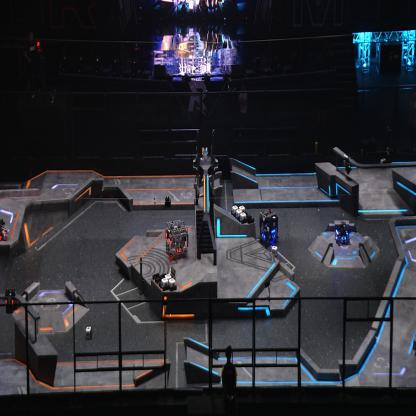car: (165, 219, 188, 260), (258, 207, 279, 244), (334, 221, 350, 245), (0, 212, 8, 241)
